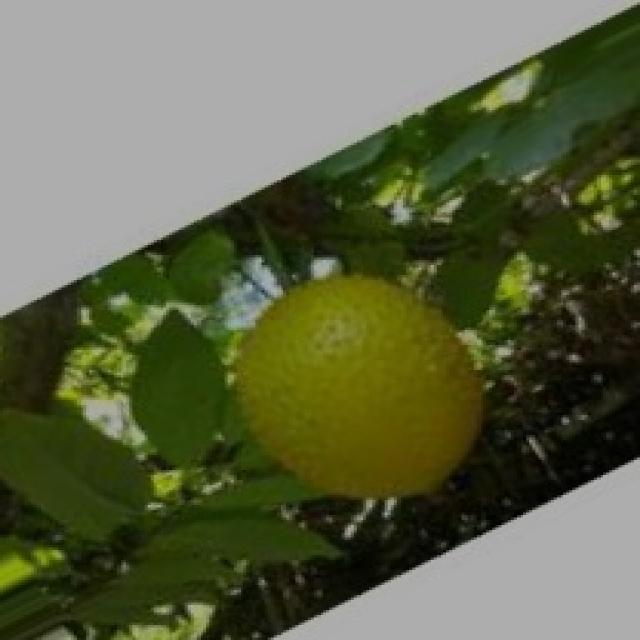Fruit: (188, 235, 529, 555), (92, 278, 252, 520), (0, 368, 182, 572)
